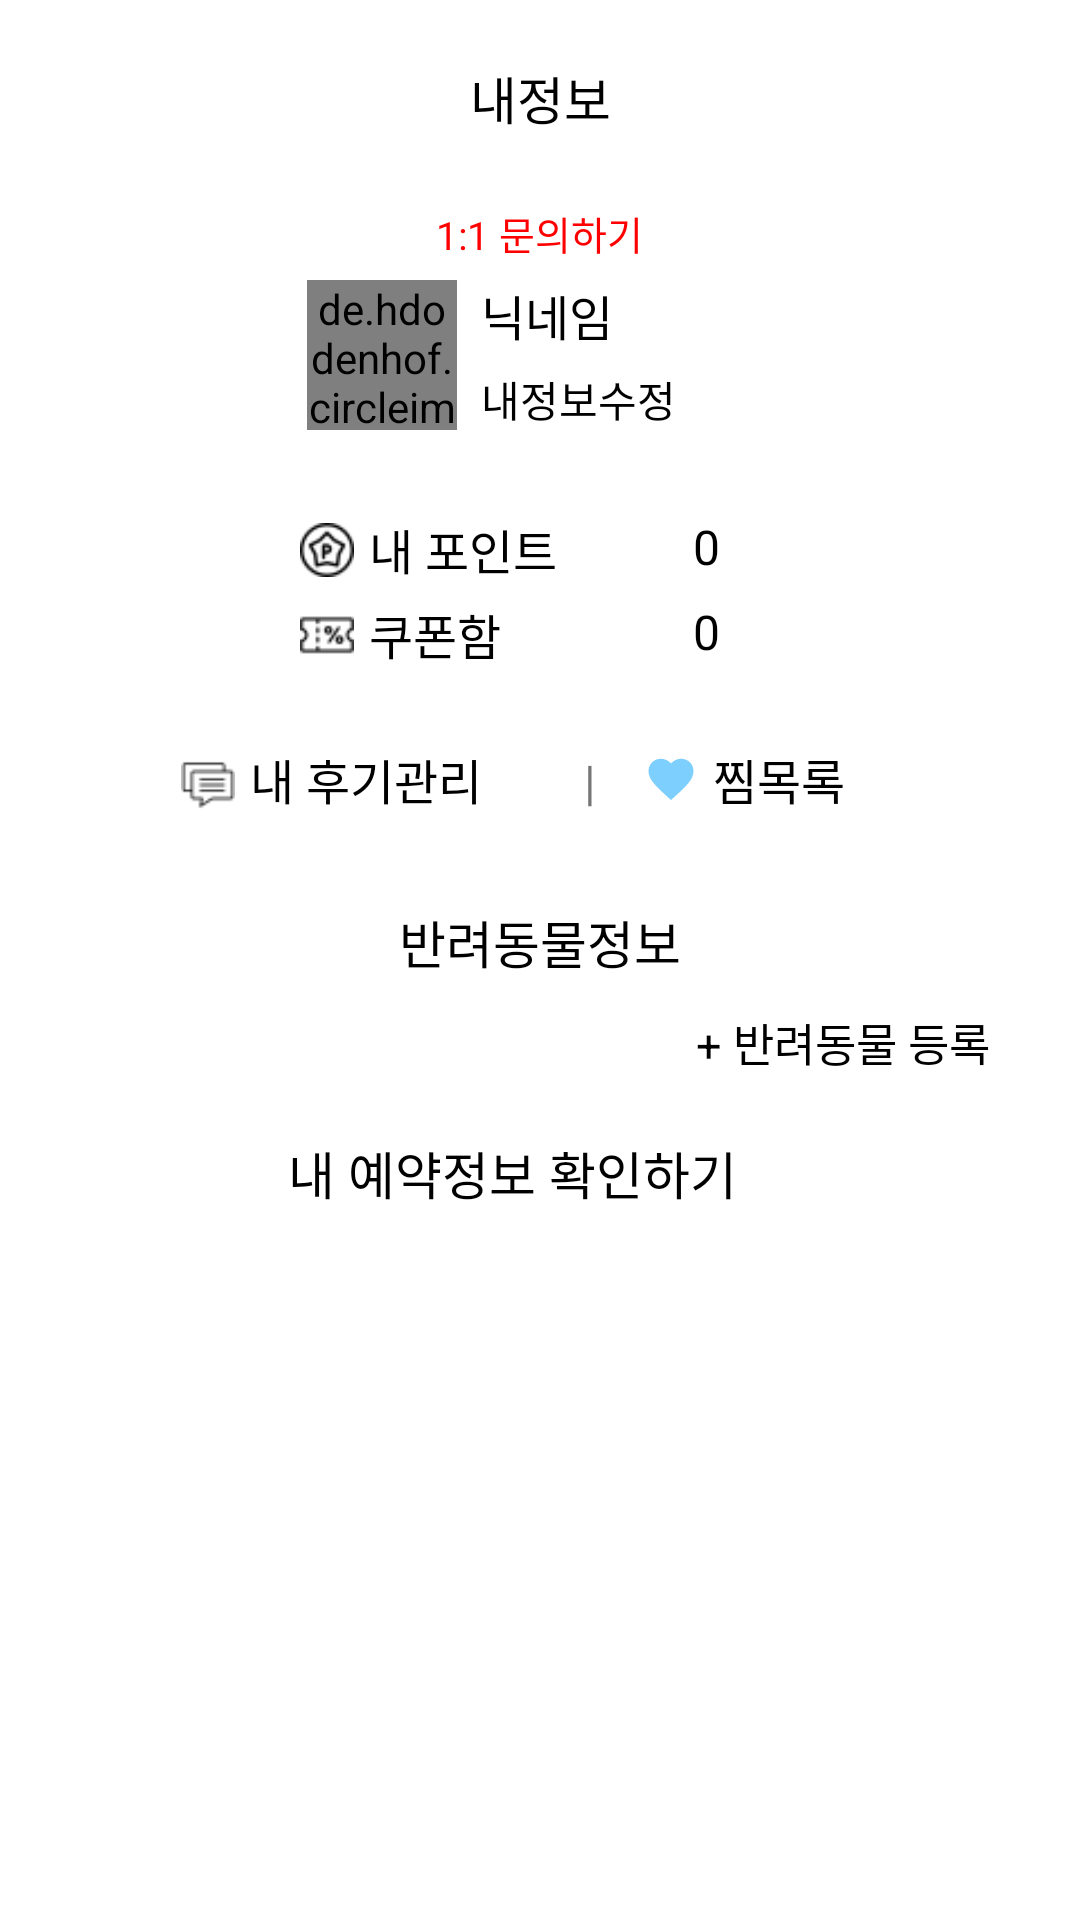

Locate icon controls on the screen. Image size 1080px x 1920px, boxes as {"left": x1, "top": y1, "right": x2, "bottom": y2}.
coupon: {"left": 300, "top": 616, "right": 354, "bottom": 654}
point: {"left": 300, "top": 523, "right": 354, "bottom": 577}
review: {"left": 181, "top": 762, "right": 235, "bottom": 808}
